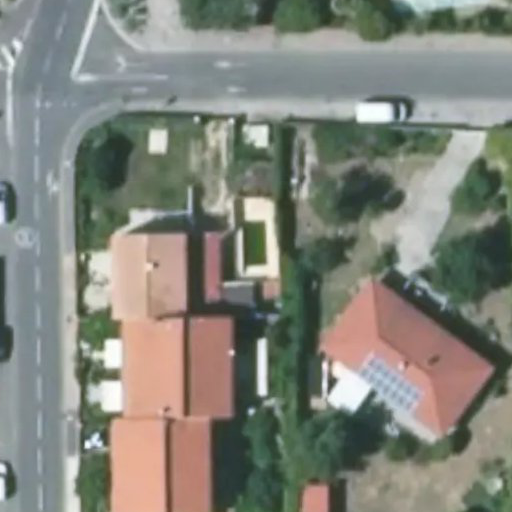pool: (240, 217, 271, 266)
